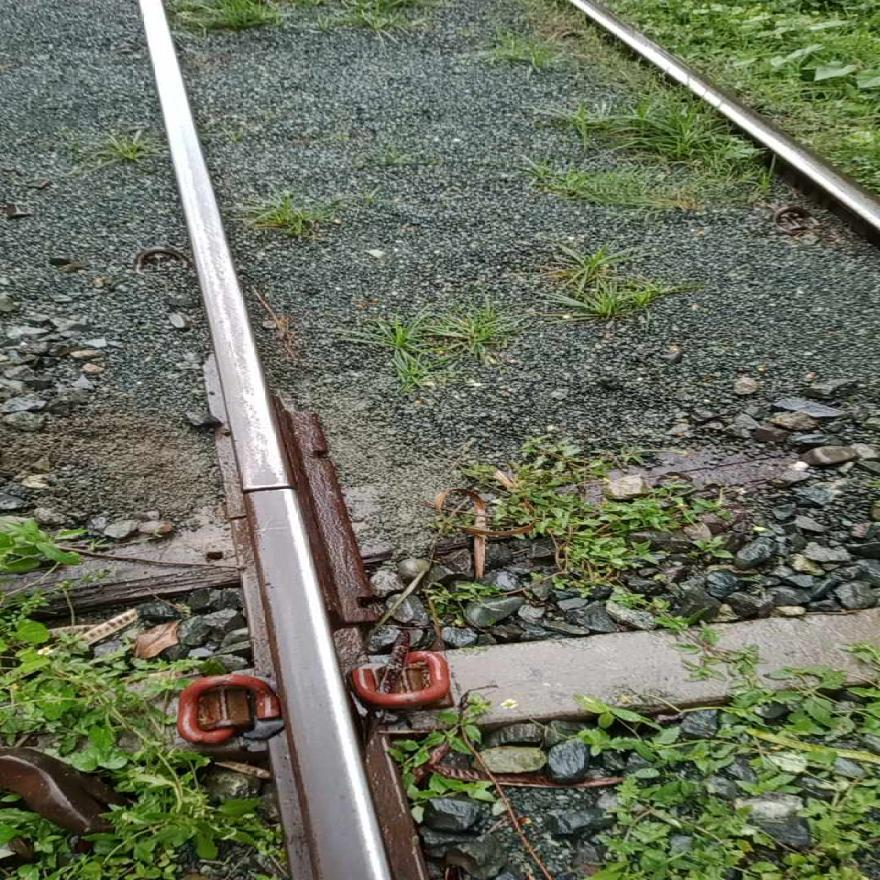railway-gap: (190, 452, 334, 522)
